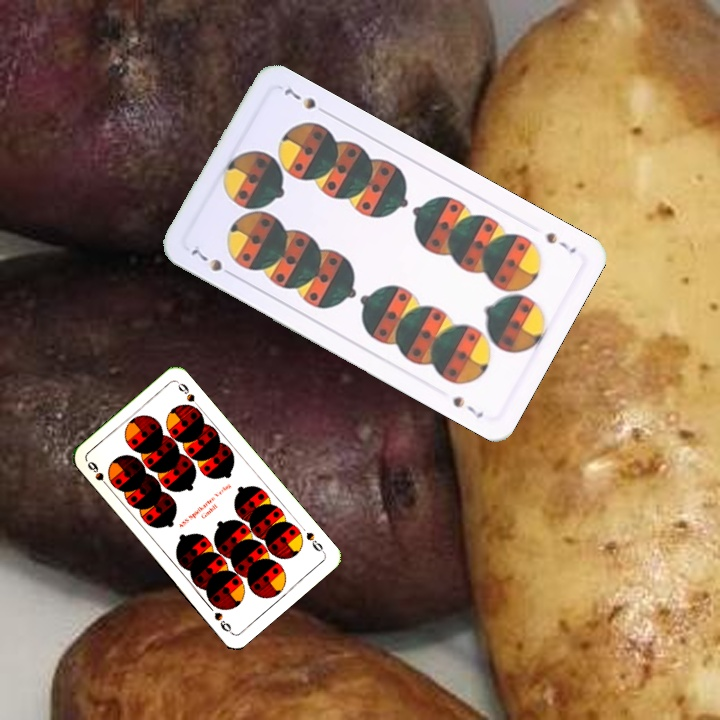S7: (186, 244, 238, 280), (542, 228, 579, 256)
S9: (83, 457, 113, 491), (302, 528, 328, 556)
